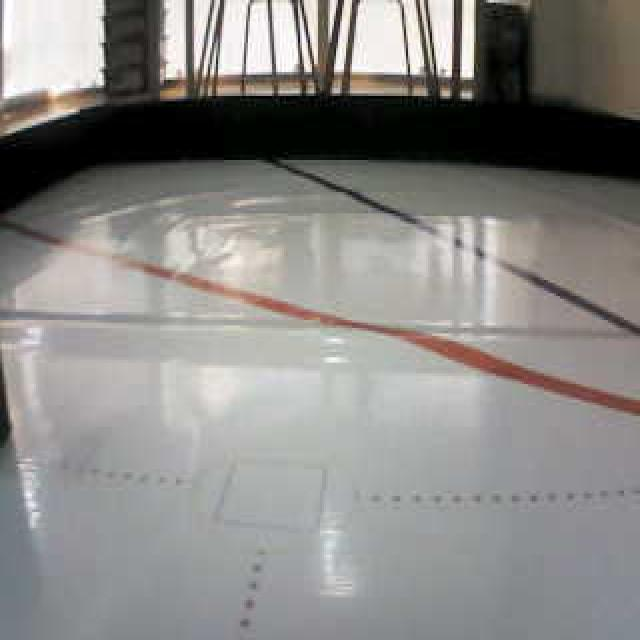azul: (305, 171, 555, 279)
naranja: (272, 304, 539, 441)
